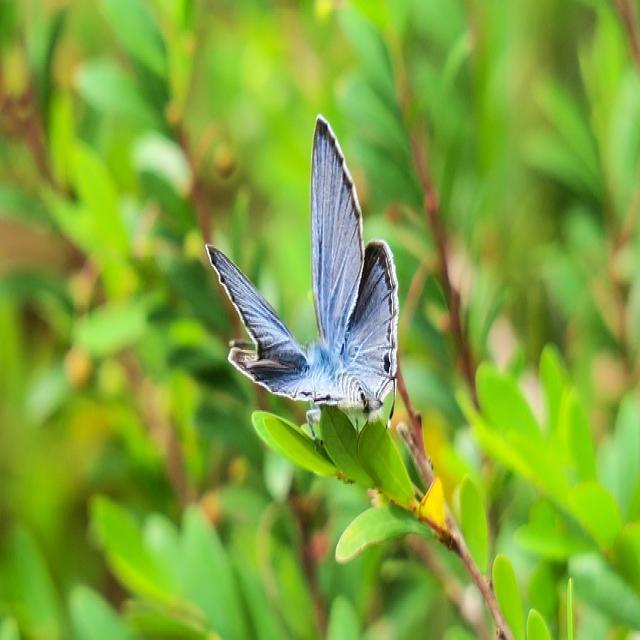butterfly: (202, 117, 399, 422)
